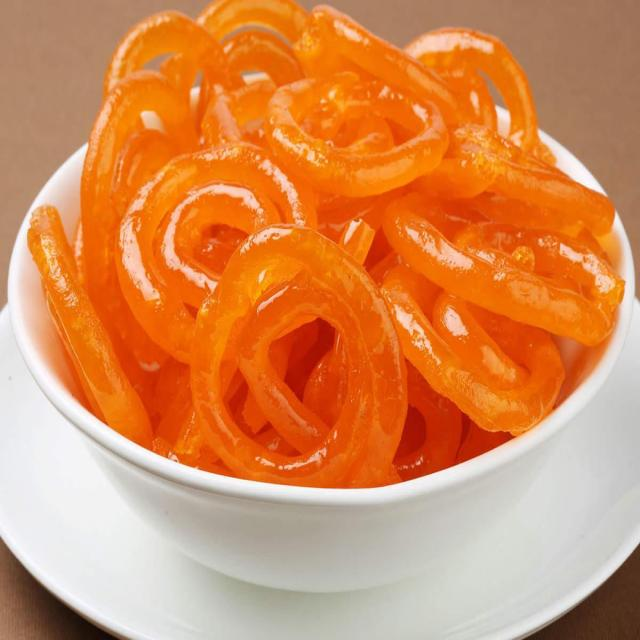jalebi: (48, 6, 627, 503)
